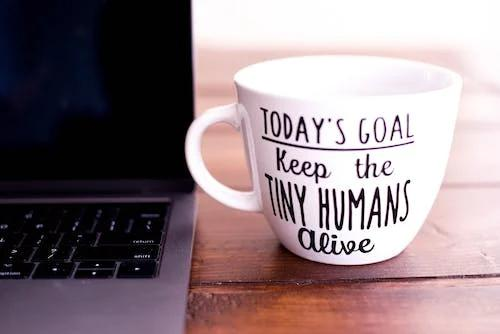Mug: (195, 49, 486, 274)
